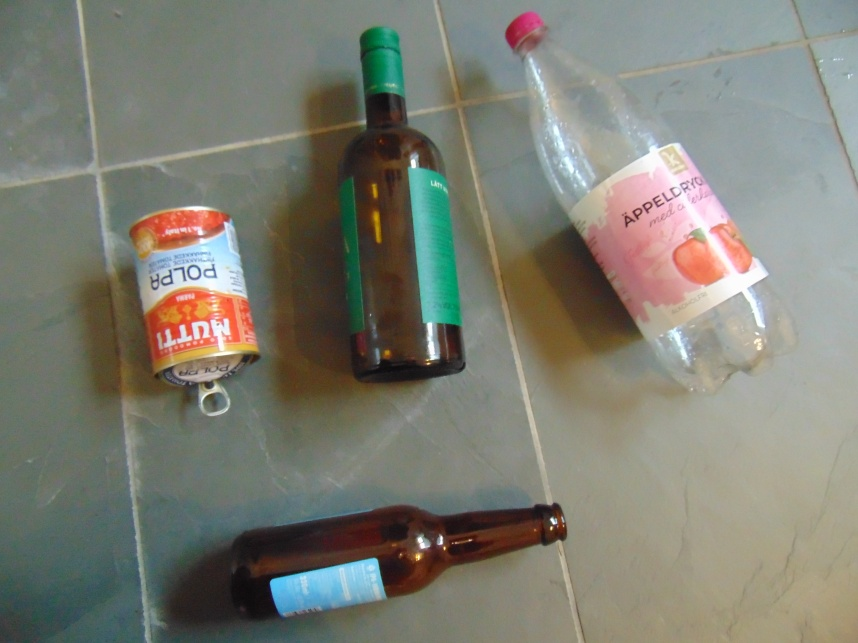glass_bottle: (337, 26, 467, 389), (230, 501, 569, 621)
metal_can: (130, 203, 262, 383)
plastic_bottle: (505, 9, 799, 397)
